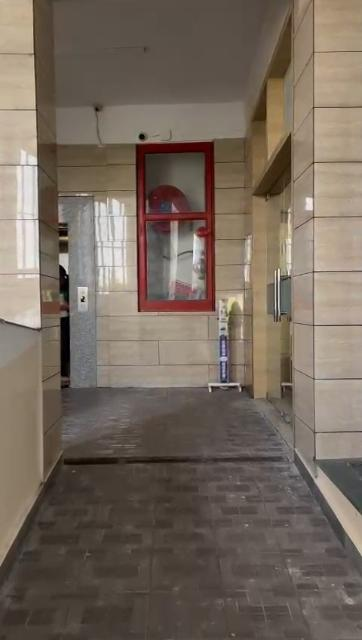door: (270, 262, 288, 342)
floor: (0, 390, 362, 640)
moving-obj: (34, 239, 98, 399)
wall: (288, 3, 362, 453), (0, 0, 40, 498), (244, 122, 272, 394), (100, 193, 140, 383), (219, 135, 250, 297), (144, 316, 214, 384), (56, 145, 134, 191)
